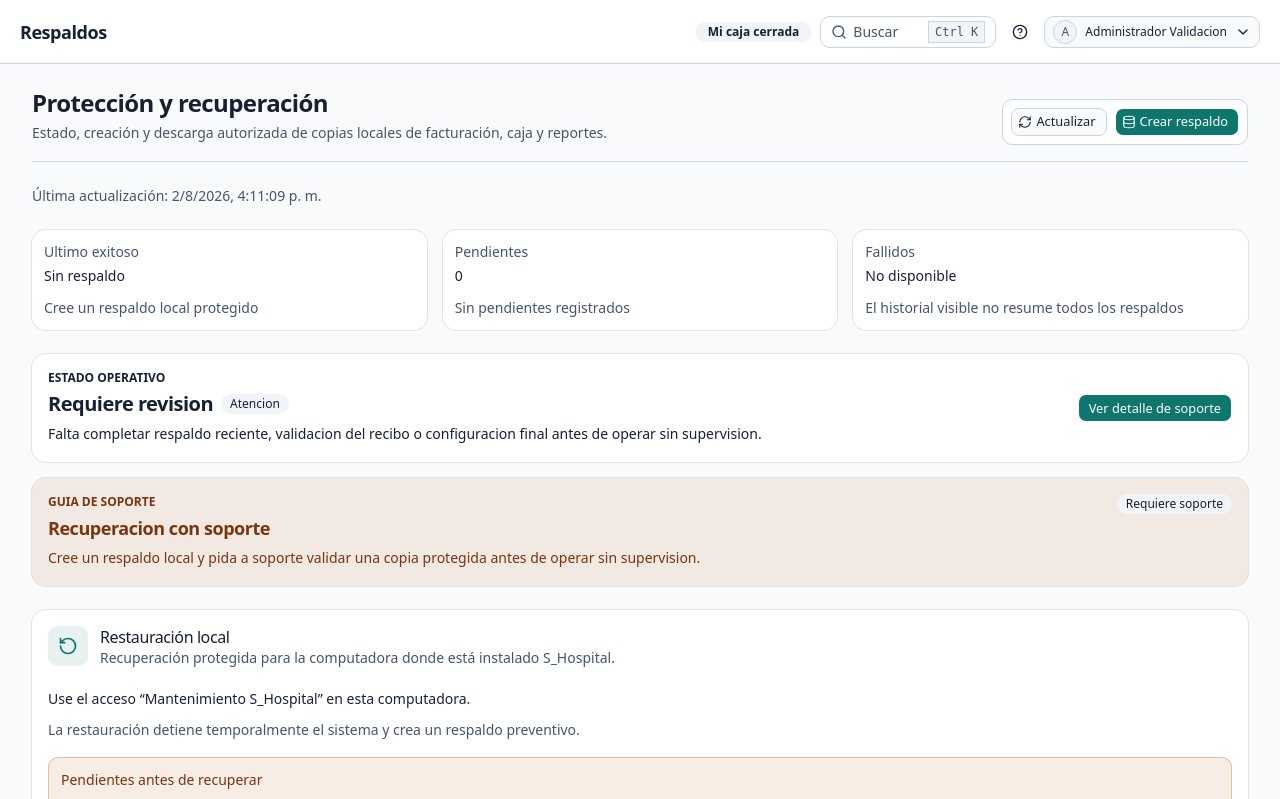
App › renders backups view actions for an admin
Expected: the heading "Protección y recuperación" is shown, [32,86,328,119]
Expected: the text "Estado operativo" is shown, [48,369,165,386]
Click the button "Ver detalle de soporte".
click(1155, 408)  # box [1078,394,1232,422]
(page scrolled)
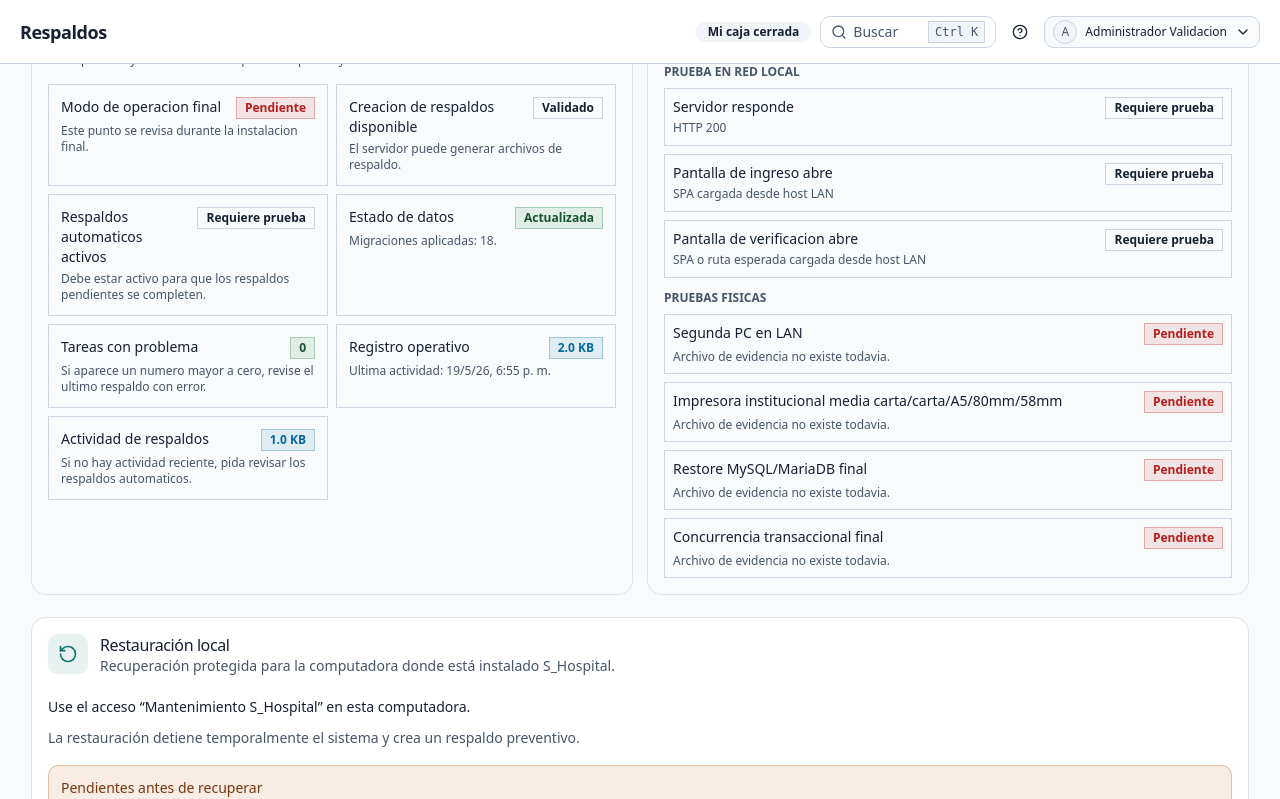
Result: the text "Modo de operacion final" is shown at [61,97,221,117]
Result: the text "Pantalla de ingreso abre" is shown at [673,163,834,183]
Result: the text "Segunda PC en LAN" is shown at [673,323,803,343]
